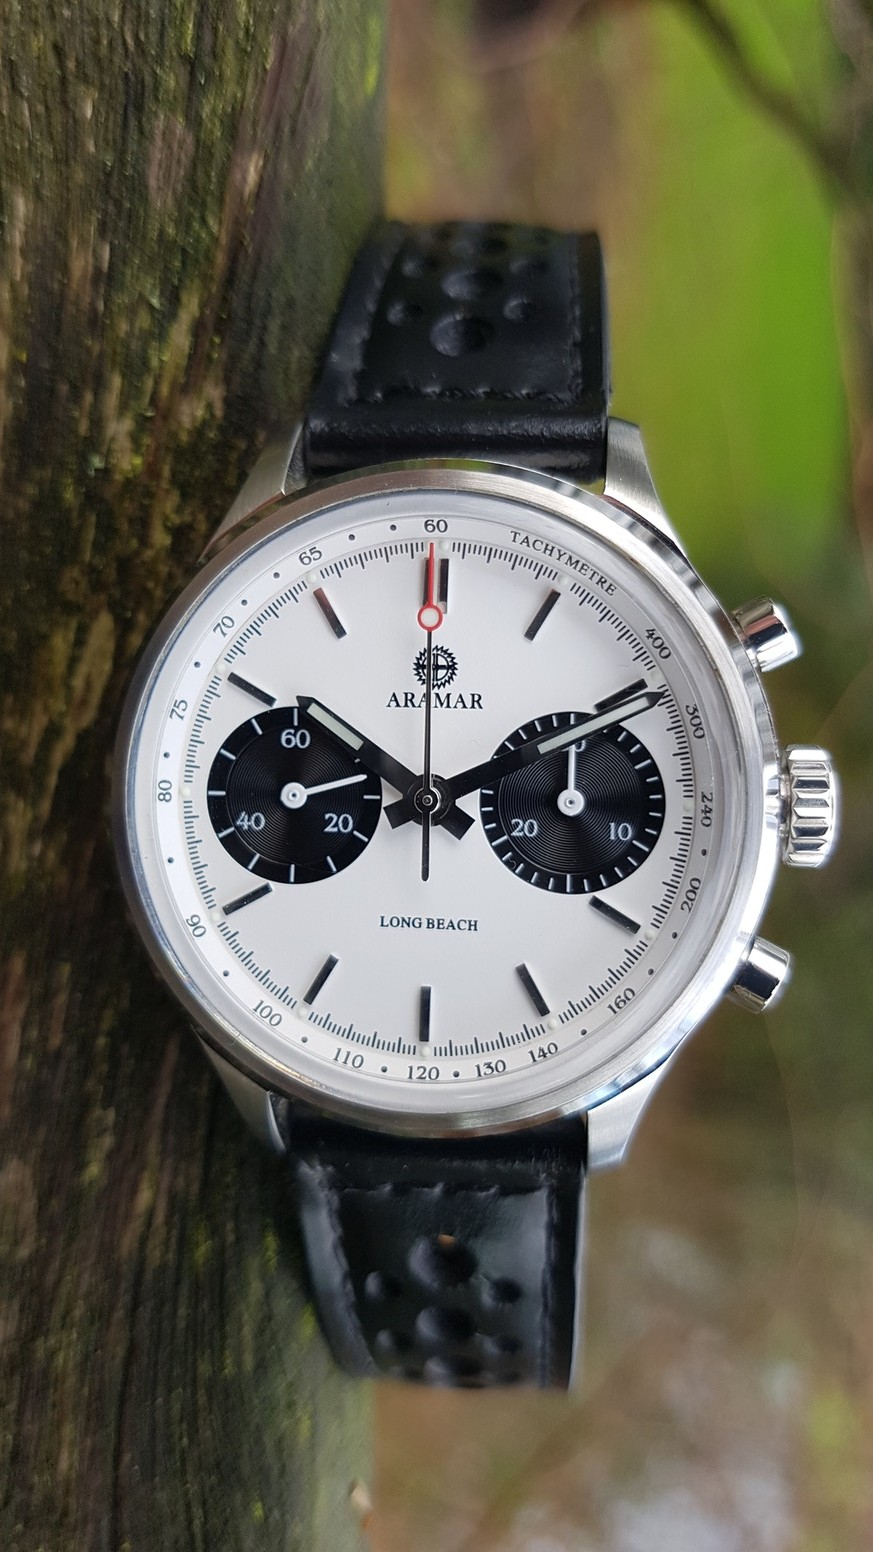clock: (115, 462, 774, 1136)
